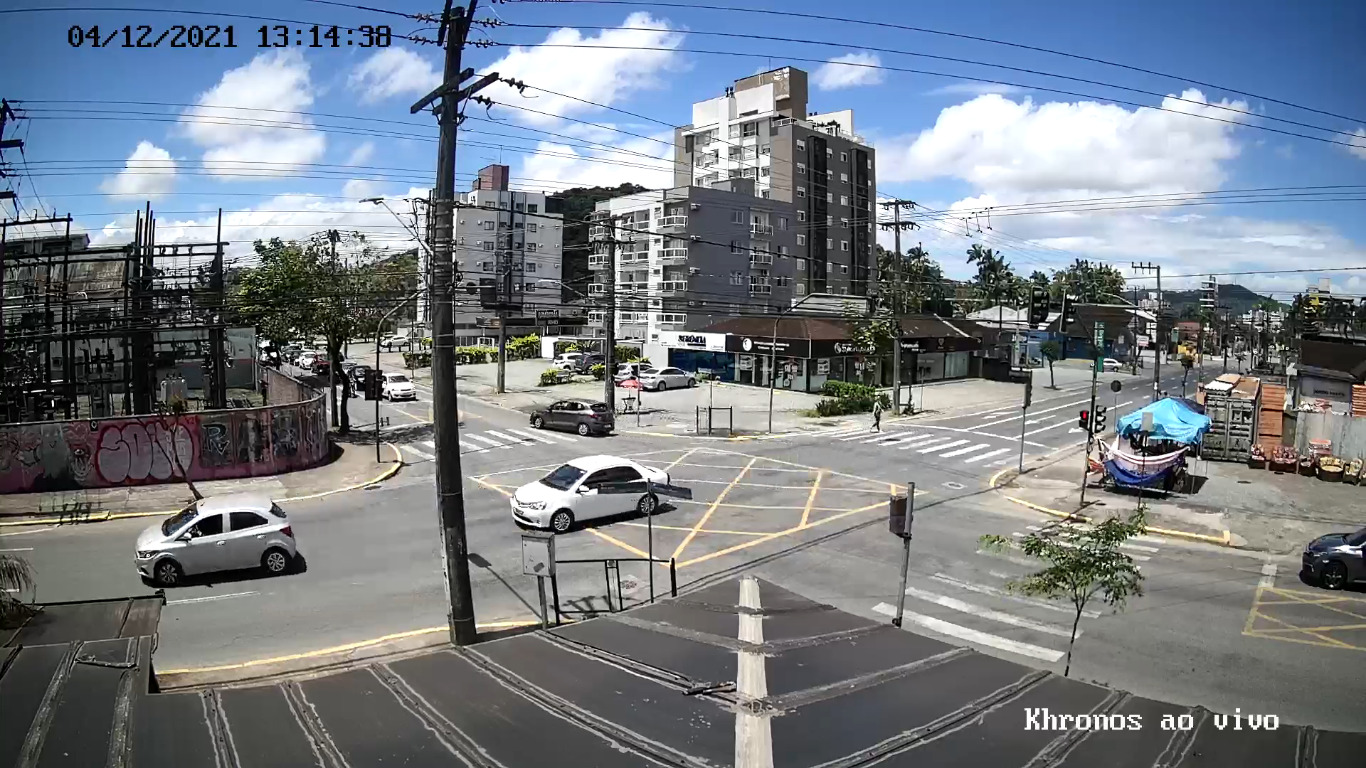car: (133, 493, 298, 588), (508, 454, 671, 535)
